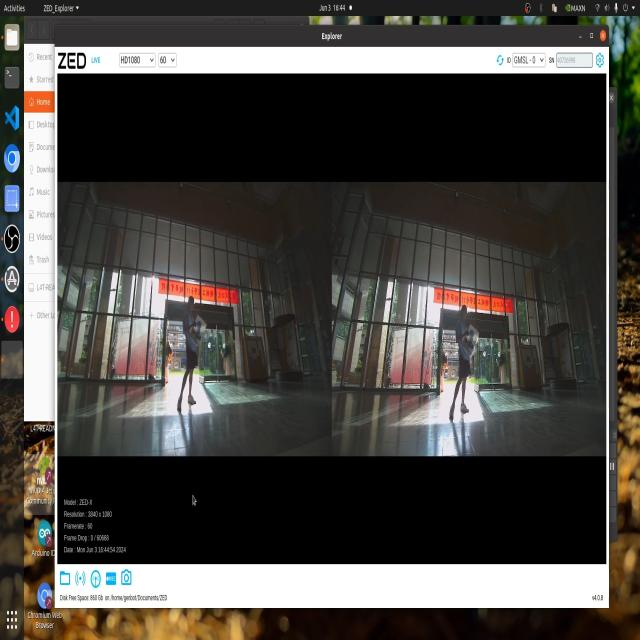blue: (190, 313, 203, 345), (463, 330, 479, 353)
